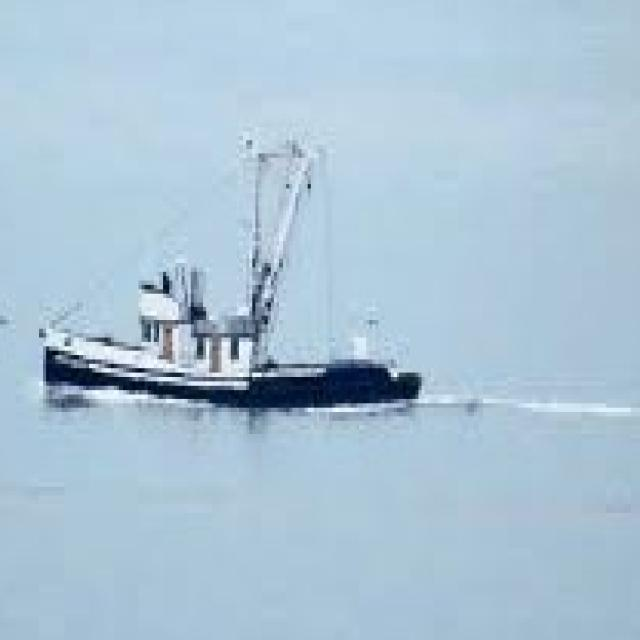fishing boat: (22, 125, 432, 404)
